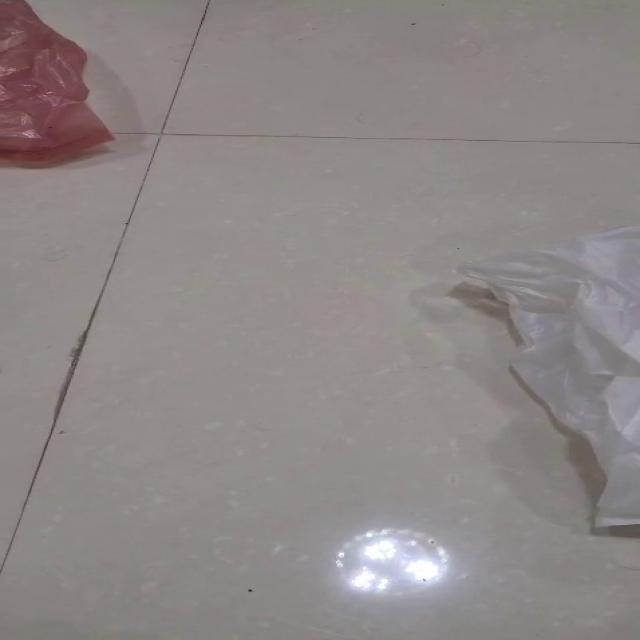plastic: (446, 224, 639, 532), (0, 0, 115, 166)
